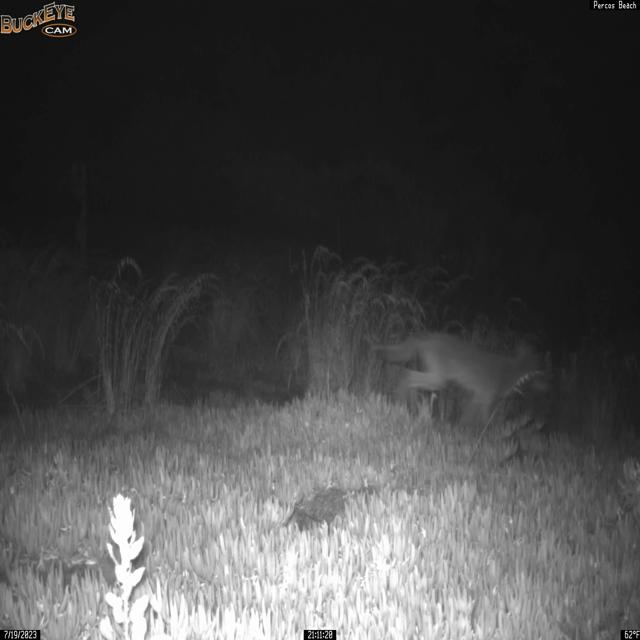coyote: (371, 330, 553, 430)
